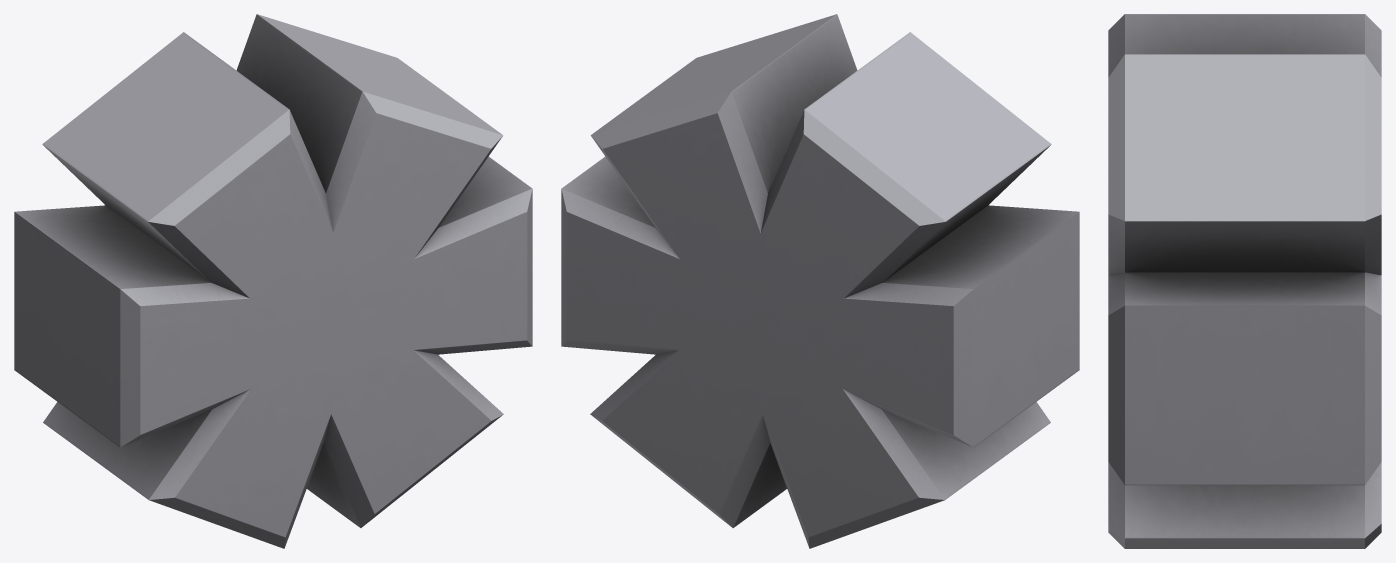
File: Asterisk.FBX
The picture shows the model from 3 angles, left to right: view 1: azimuth 30°, elevation 25°; view 2: azimuth 150°, elevation 25°; view 3: azimuth 270°, elevation 25°; orthographic projection. The views are drawn at different scales.
Visible parts, largest first — view 1: Asterisk; view 2: Asterisk; view 3: Asterisk.
Part boxes in pixels (x1,y1,x2,y2): Asterisk: (14,14,532,548); Asterisk: (561,14,1079,548); Asterisk: (1108,14,1381,548).
Size of the model in its own units: 65.22 by 66.29 by 33.
